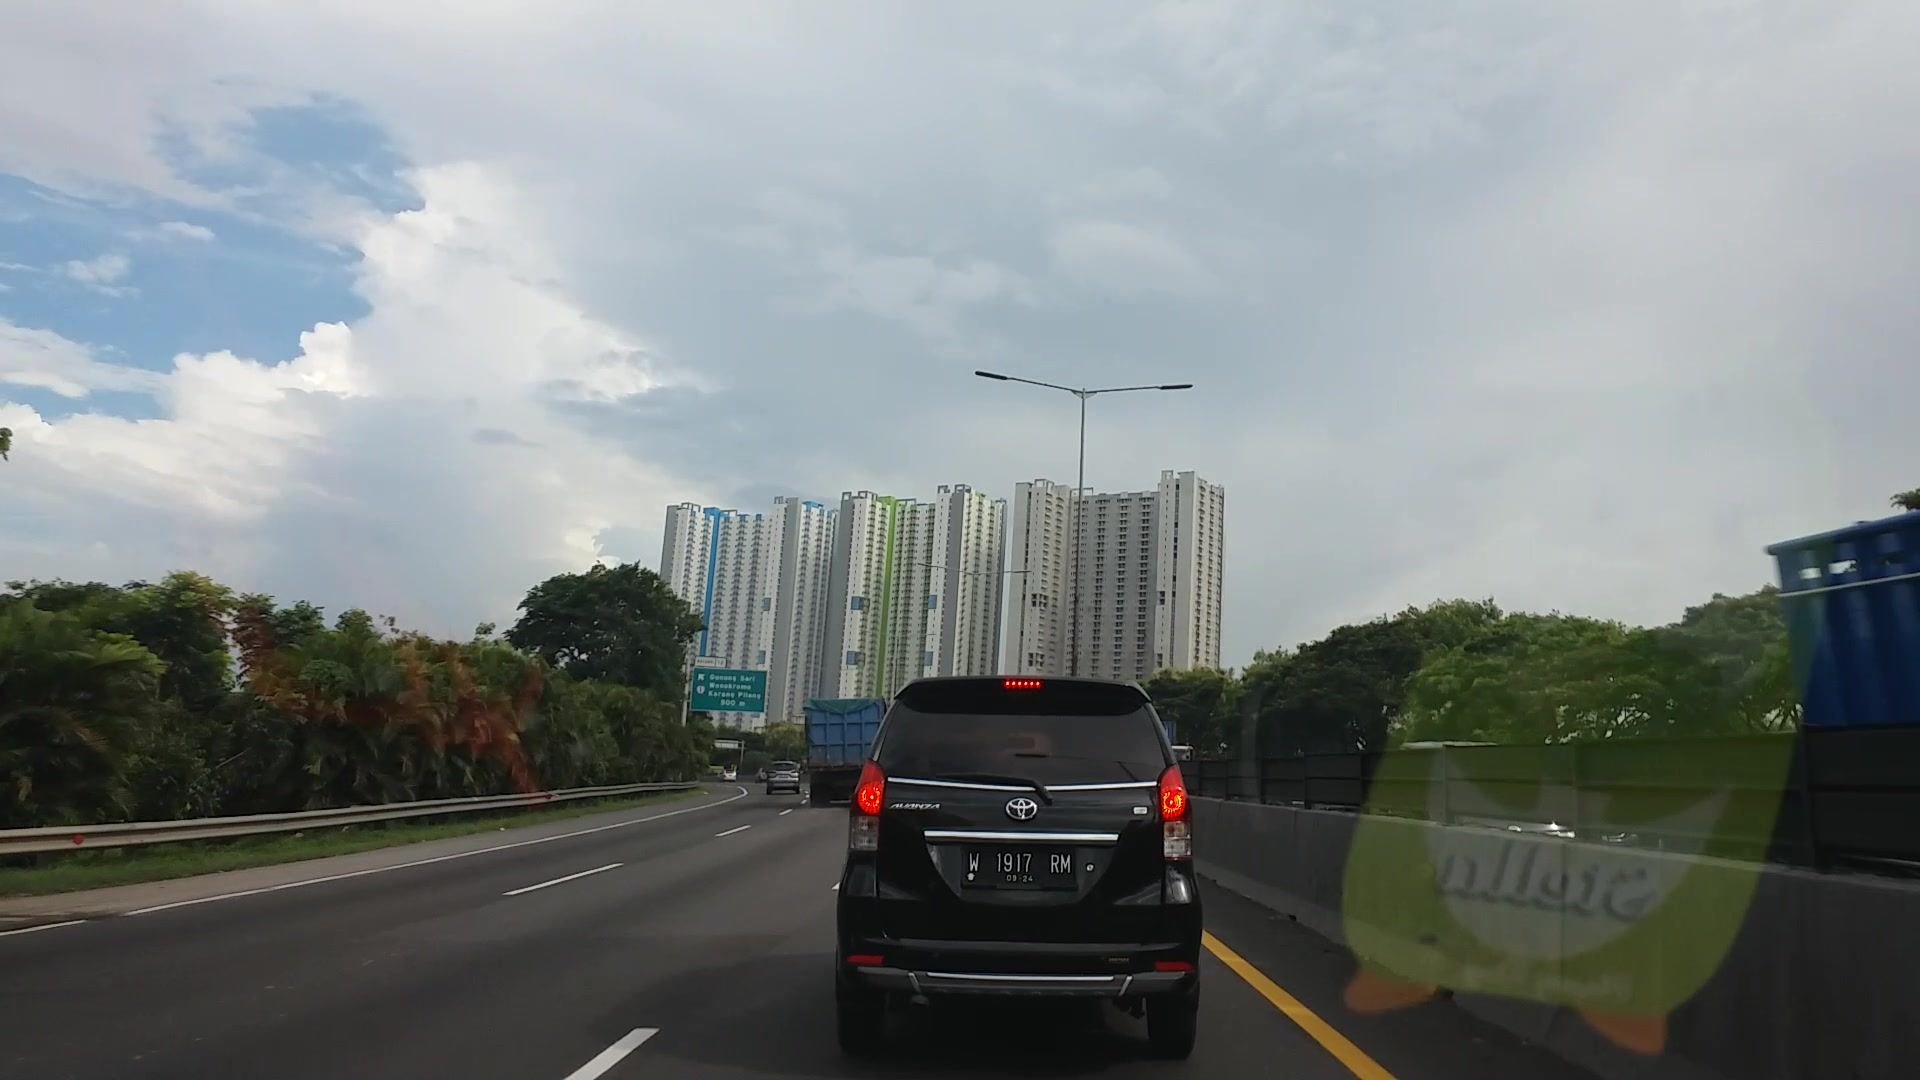plate_positive: (963, 844, 1077, 885)
